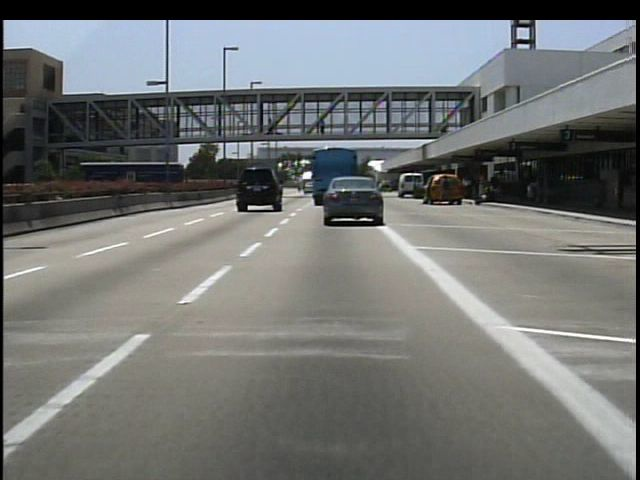person: (439, 176, 456, 211), (316, 116, 330, 142), (265, 115, 280, 137)
